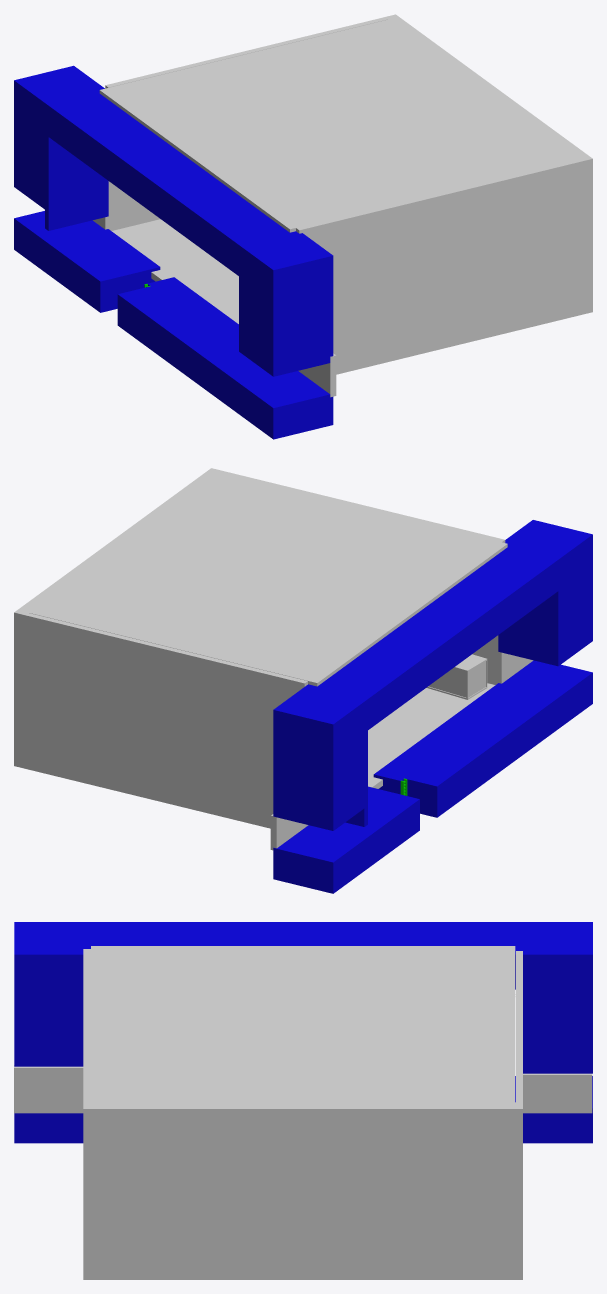
The model's file is Level_3_scene14_colored_bg.fbx.
The picture shows the model from 3 angles, top to bottom: view 1: azimuth 30°, elevation 25°; view 2: azimuth 150°, elevation 25°; view 3: azimuth 270°, elevation 25°; orthographic projection. The views are drawn at different scales.
Parts seen in each view (by area): view 1: Cube.050, Cube.157, Cube.155, Cube.156, Cube.162; view 2: Cube.050, Cube.157, Cube.155, Cube.156, cargo.007, Cube.193; view 3: Cube.155, Cube.157, Cube.050, Cube.162, Cube.193.
Part boxes in pixels (x1,y1,x2,y2): Cube.050: [14, 65, 333, 439]; Cube.157: [99, 20, 576, 232]; Cube.155: [105, 14, 592, 374]; Cube.156: [111, 219, 586, 370]; Cube.162: [299, 353, 336, 397]; Cube.050: [273, 520, 592, 893]; Cube.157: [29, 473, 507, 686]; Cube.155: [14, 468, 505, 828]; Cube.156: [20, 683, 495, 823]; cargo.007: [426, 654, 487, 699]; Cube.193: [270, 814, 308, 850]; Cube.155: [83, 949, 522, 1279]; Cube.157: [91, 946, 515, 1102]; Cube.050: [14, 922, 592, 1143]; Cube.162: [14, 1065, 83, 1113]; Cube.193: [523, 1073, 592, 1113].
Bounding box in the file's own units: 5848 × 2800 × 7504.
